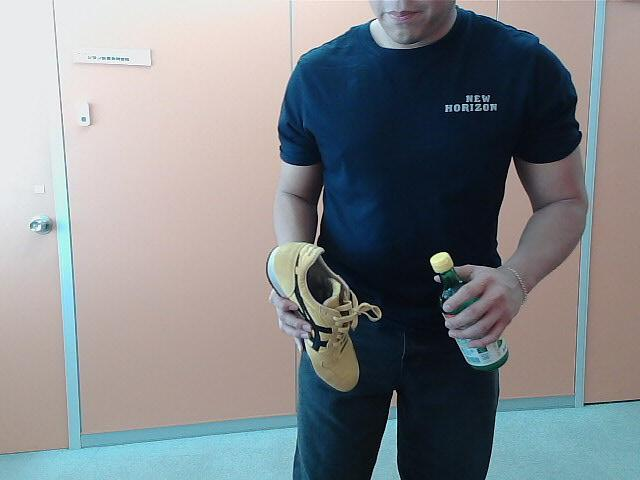Lemon_sapporo: (418, 253, 516, 370)
Shoes: (264, 238, 366, 396)
